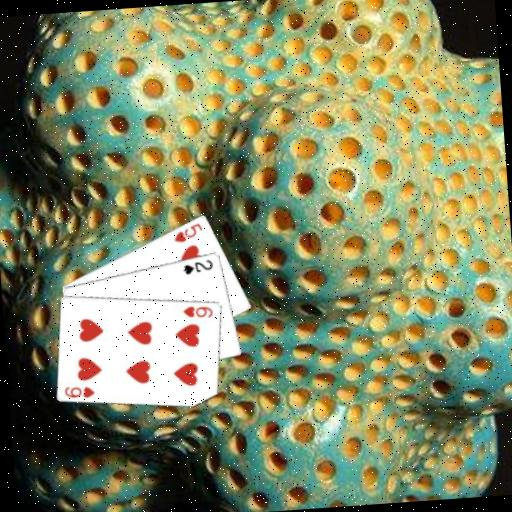2S: (179, 256, 215, 276)
5H: (170, 220, 205, 244)
6H: (180, 301, 215, 320), (61, 382, 96, 401)
